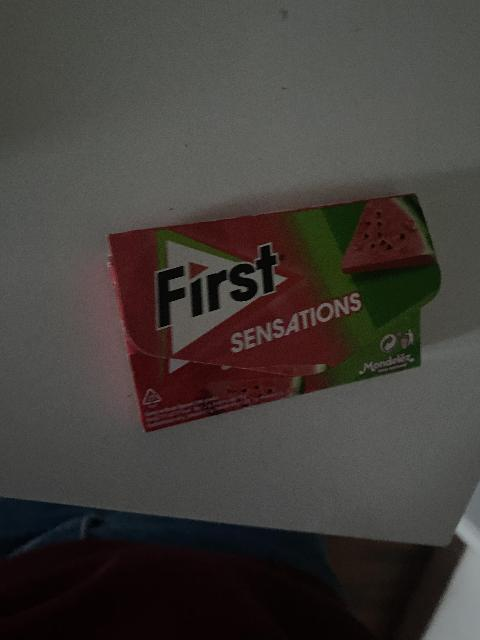Kagit: (103, 187, 444, 440)
